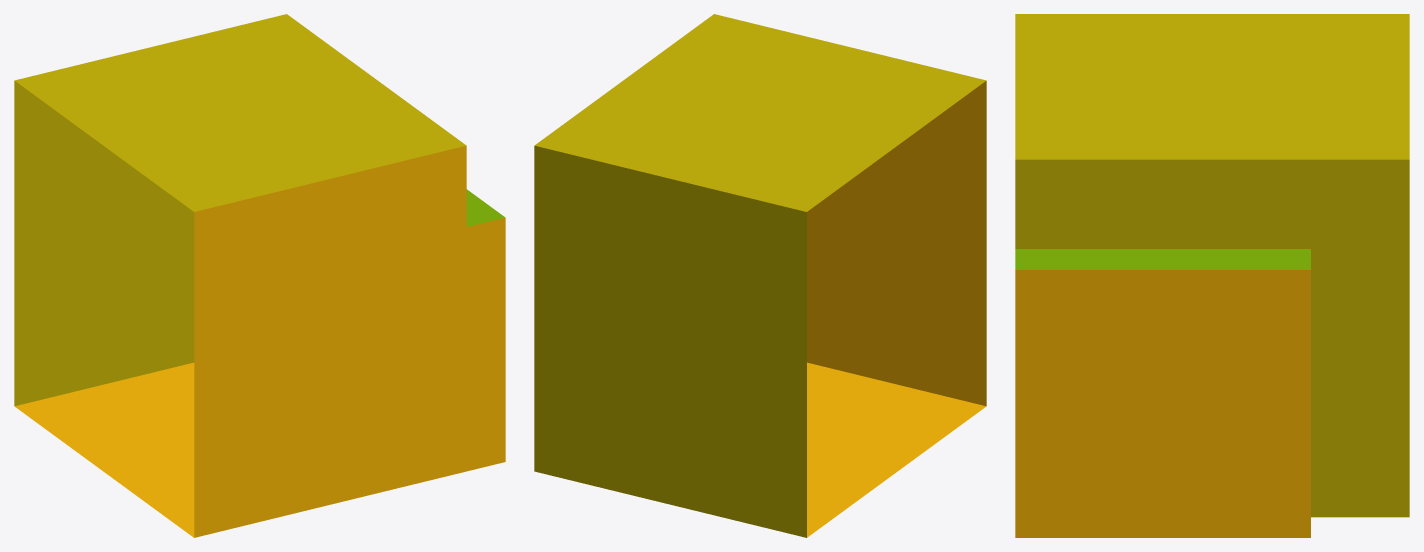
File: slitted_block_edge_corner_2.dae
3 renders of one model, left to right at view 1: azimuth 30°, elevation 25°; view 2: azimuth 150°, elevation 25°; view 3: azimuth 270°, elevation 25°, orthographic. The views are drawn at different scales.
Visible parts, largest first — view 1: Cube; view 2: Cube; view 3: Cube.
Part boxes in pixels (left/top/right/bottom): Cube: left=14, top=14, right=505, bottom=537; Cube: left=534, top=14, right=986, bottom=537; Cube: left=1015, top=14, right=1409, bottom=537.
Size of the model in its own units: 0.25 by 0.25 by 0.25.
